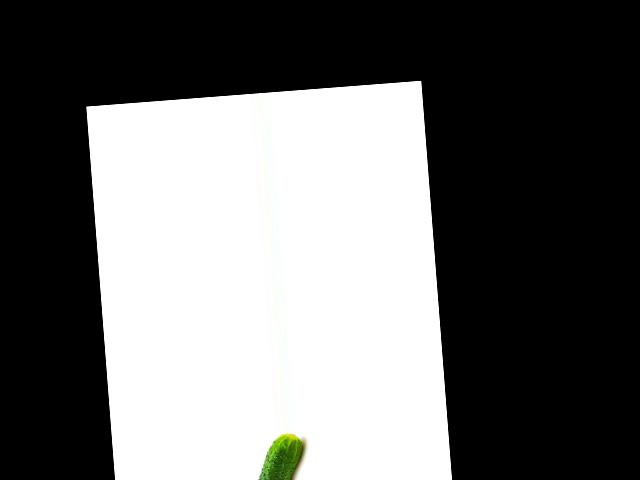cucumber: (249, 432, 307, 480)
